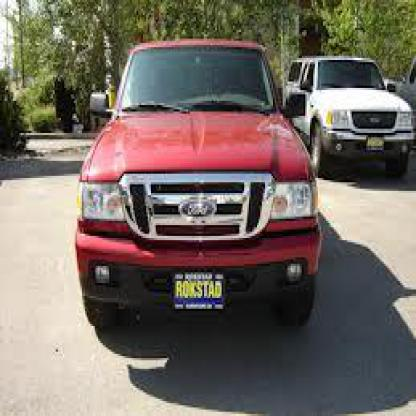car: (74, 32, 324, 335)
